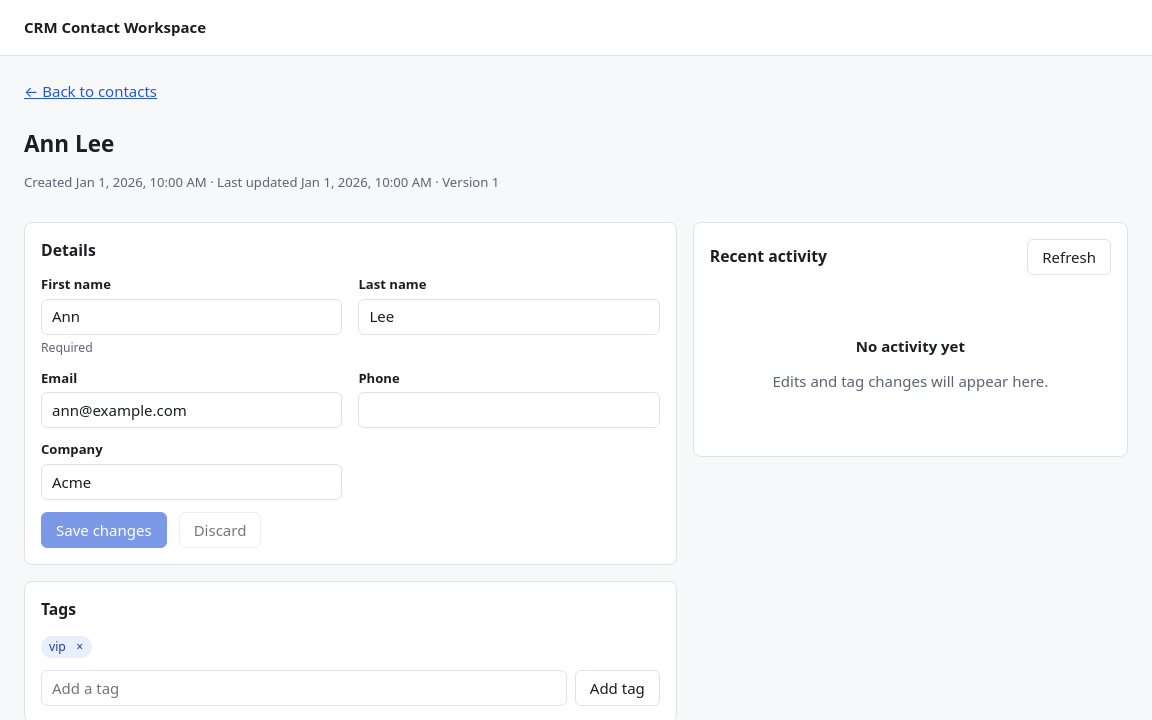
Test: ContactDetailPage — tags › adds a tag and refreshes the activity
Expected: the heading "Ann Lee" is shown, [24,128,114,158]
Type " Partner " into the field named "New tag".
click(304, 688); type(" Partner ")  # box [41,670,567,706]
Then press Enter
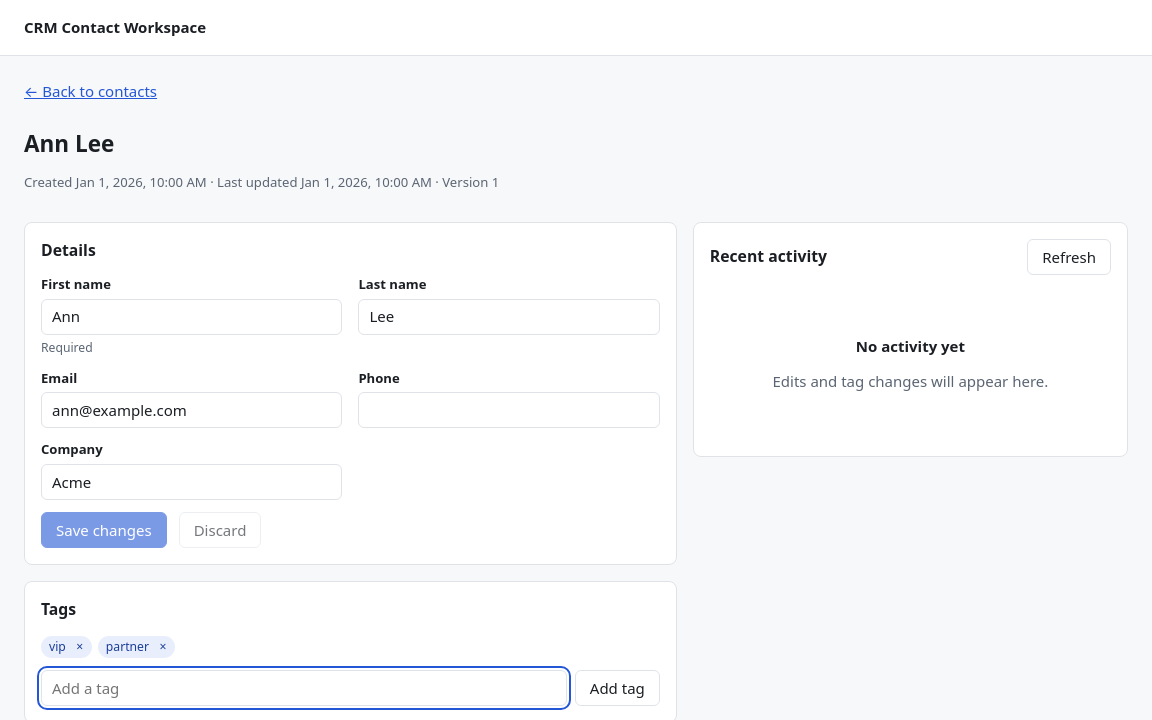
Expected: the button named "Remove tag partner" is shown, [151,635,175,659]
